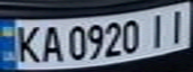0: (63, 22, 87, 61), (121, 16, 145, 54)
2: (103, 18, 127, 58)
9: (84, 20, 109, 61)
A: (36, 22, 66, 63)
I: (163, 6, 193, 45), (142, 10, 172, 48)
K: (9, 22, 42, 64)
